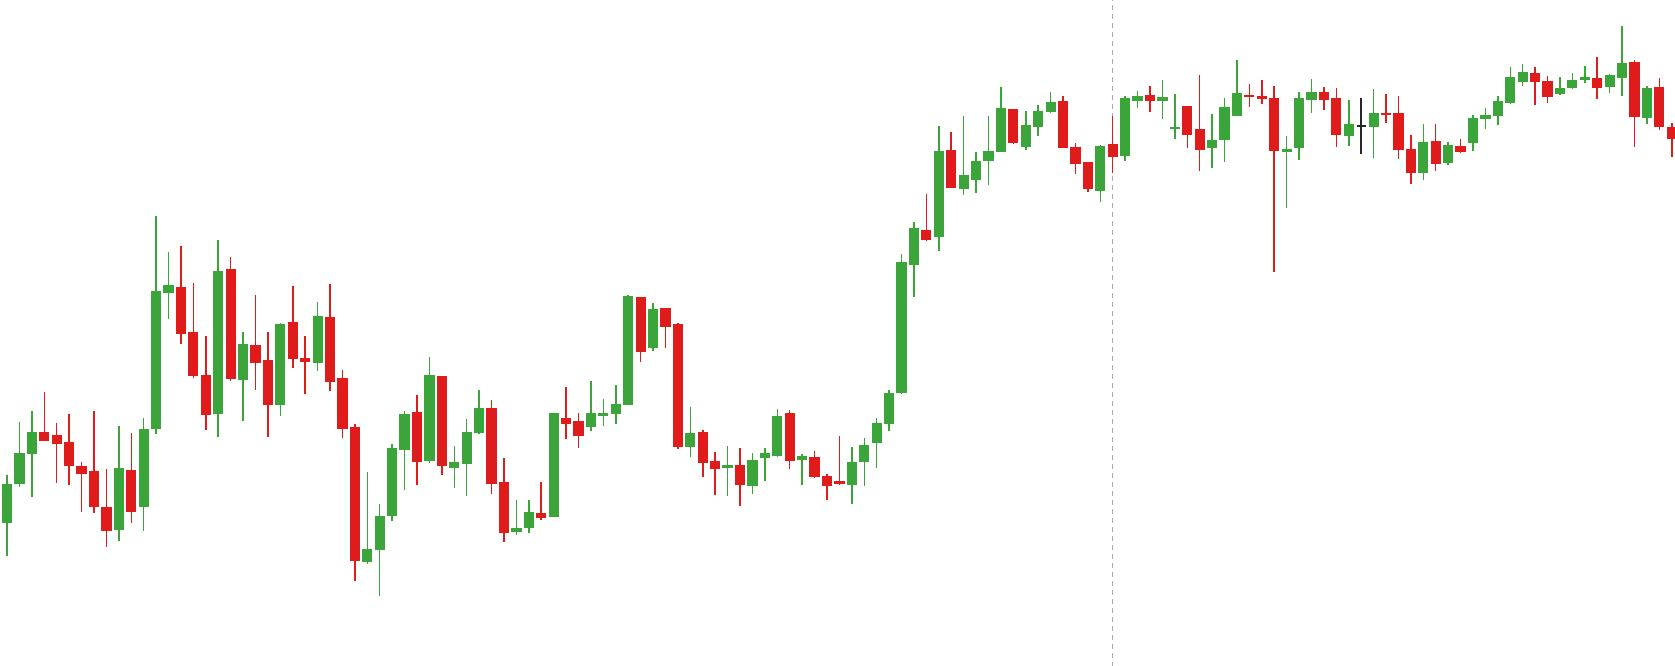buy: (99, 360, 373, 587), (981, 120, 1106, 204)
